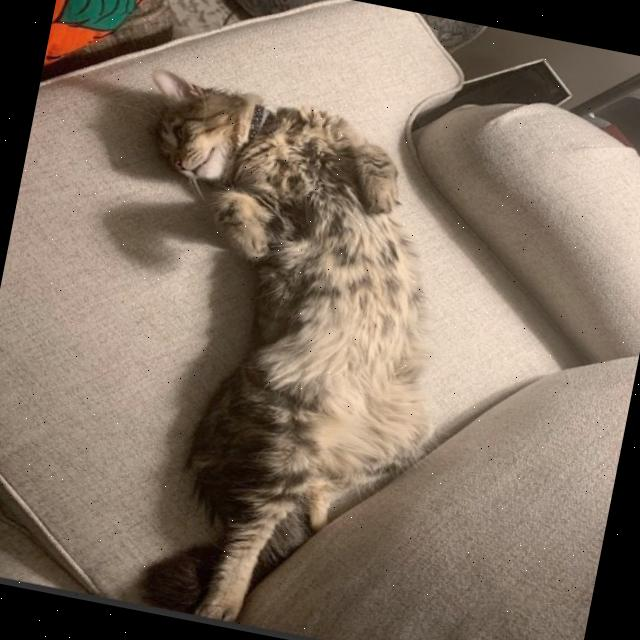maine_coon_cat: (119, 55, 287, 204)
